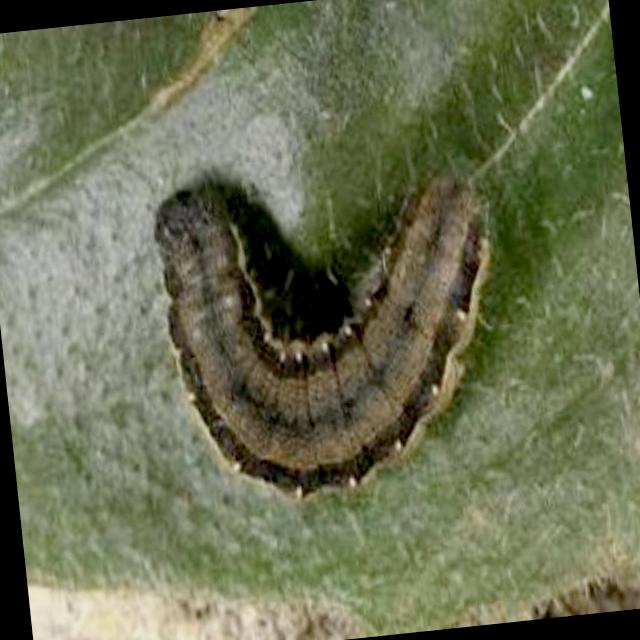Beet armyworm: (83, 90, 590, 576)
